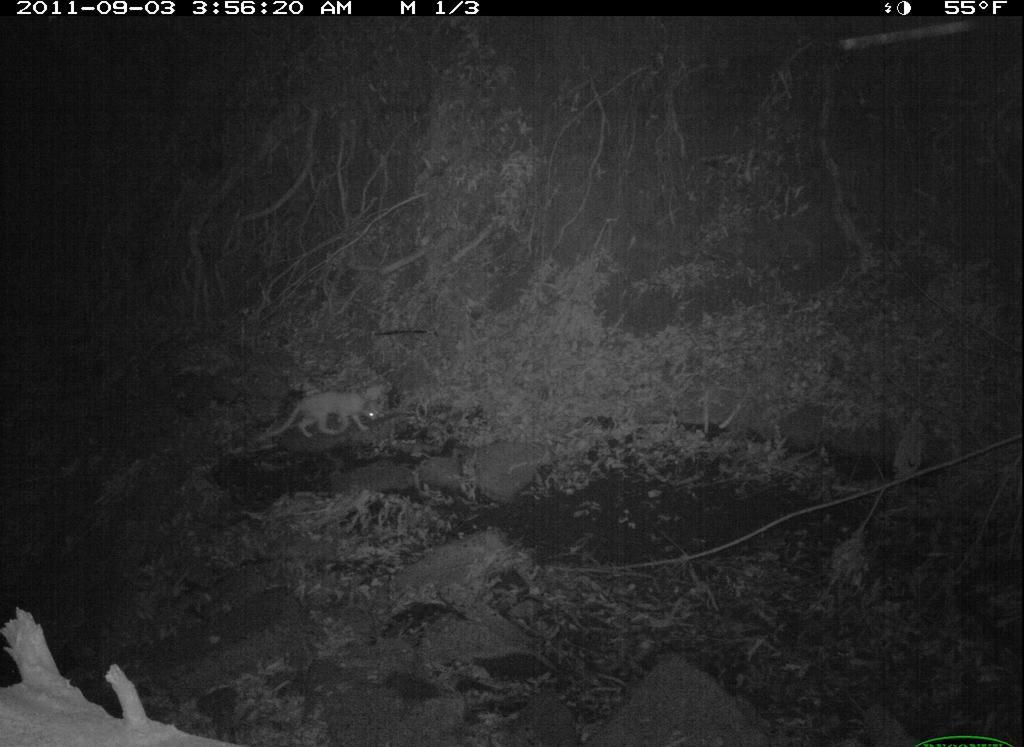cat: (246, 356, 432, 461)
